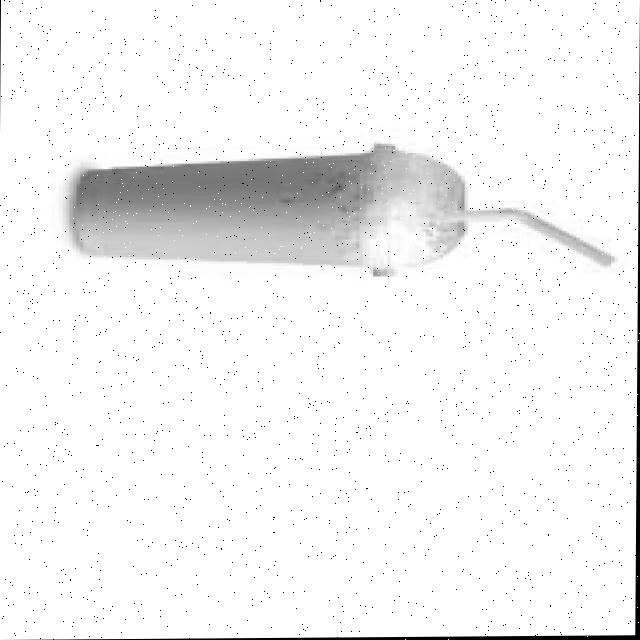cup: (76, 155, 369, 267)
